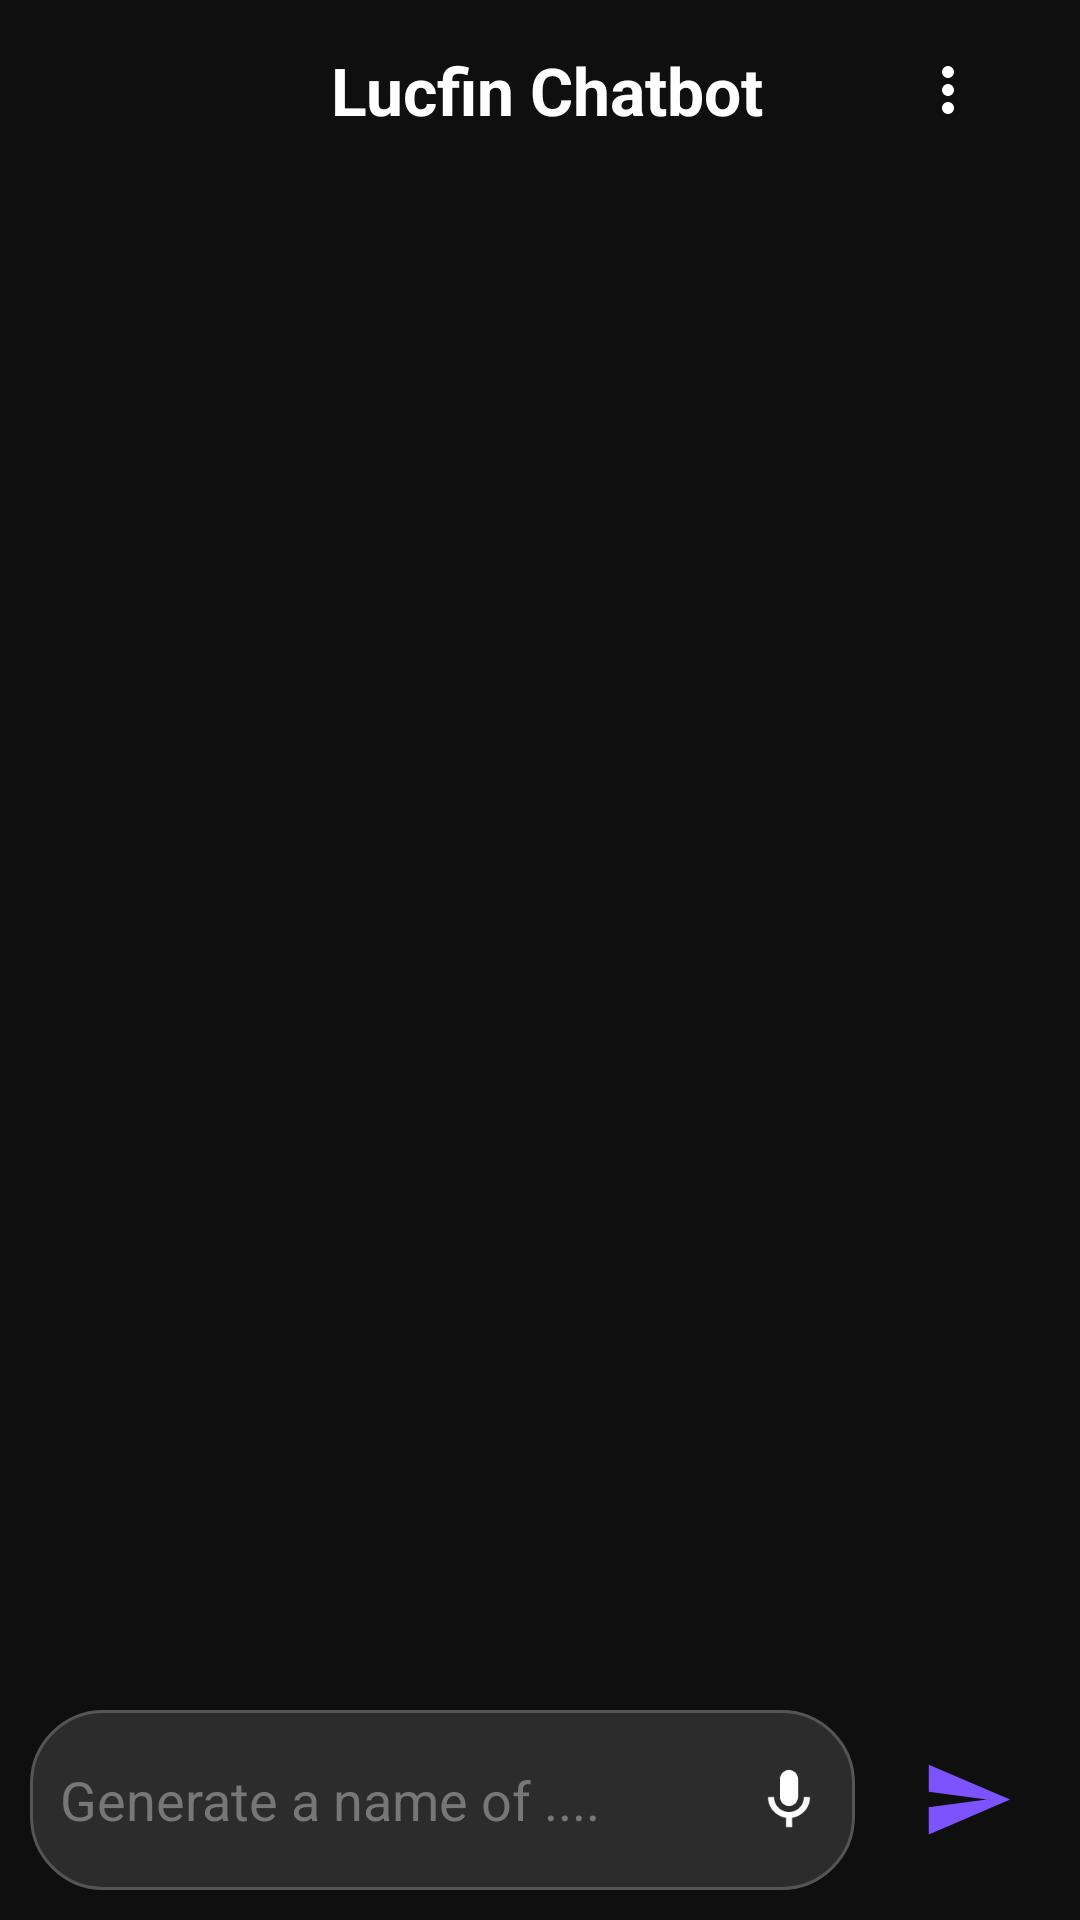

Where to tap for icons on this 1080 x 1920 app screen, as (x,y):
Send Button: (969,1800)
